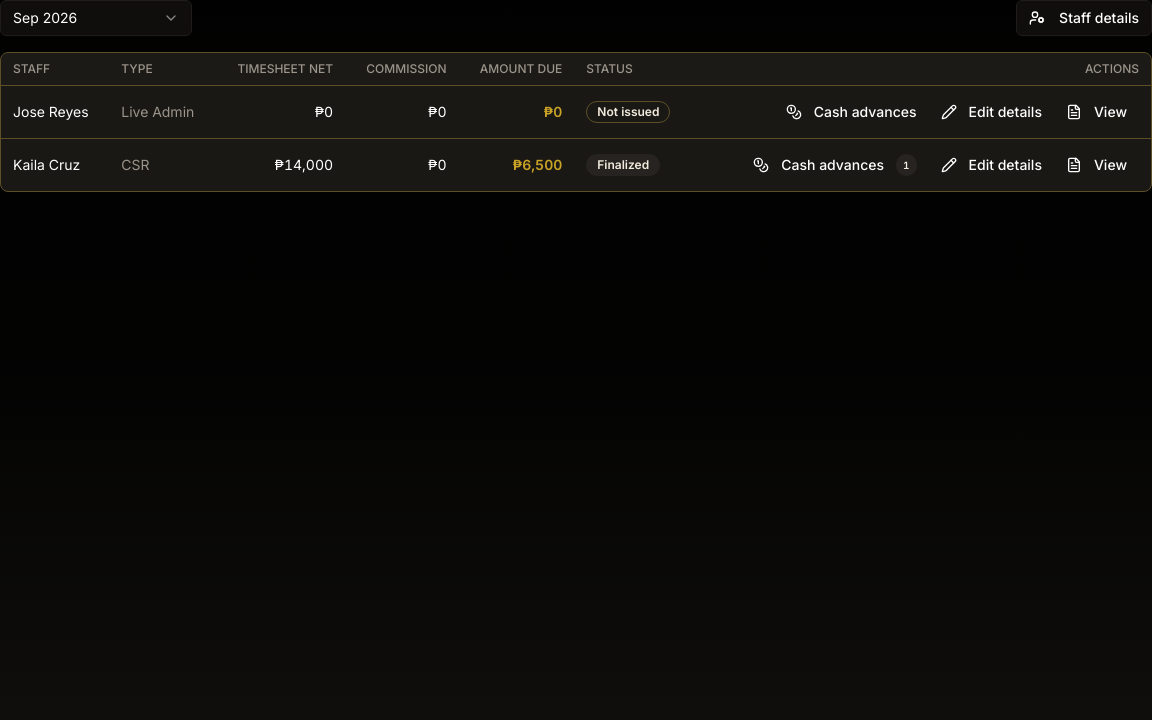
Payslips tab — cash advances, employee ID, cash bond › a finalized month makes the advances read-only
Click the button with test id "payslip-advances-open": (835, 165) [741,147,928,183]
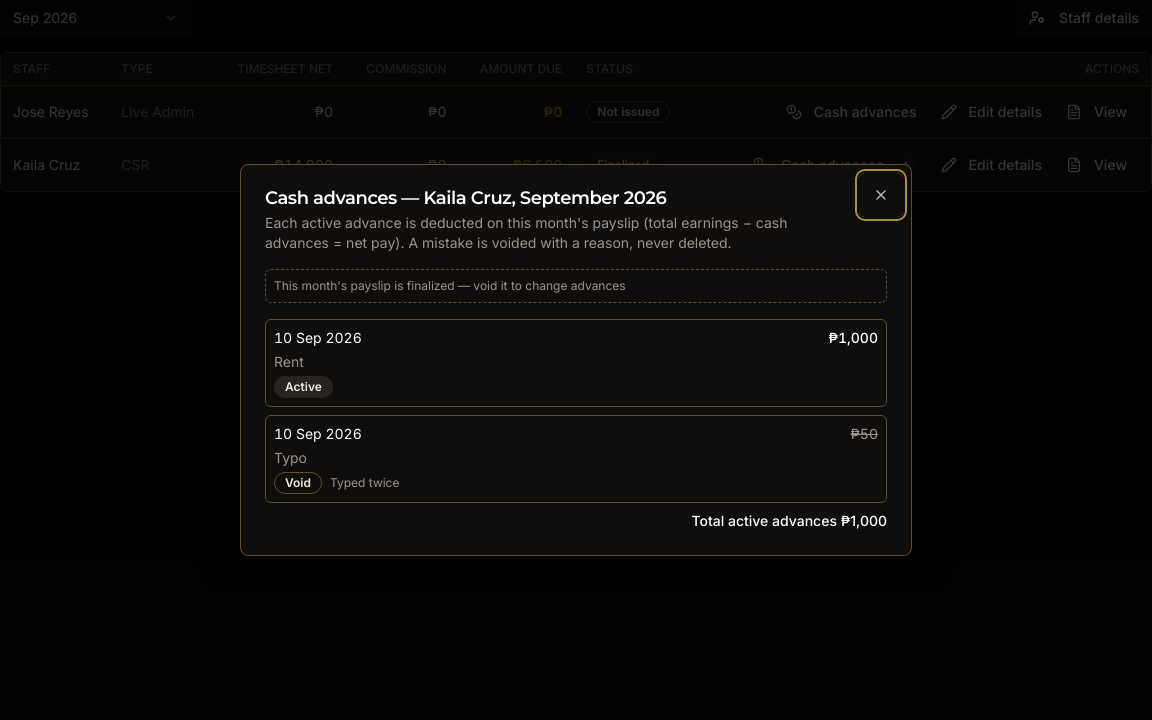
Result: the text with test id "cash-advances-locked" reads "This month's payslip is finalized — void it to change advances" at [274,278,626,293]
